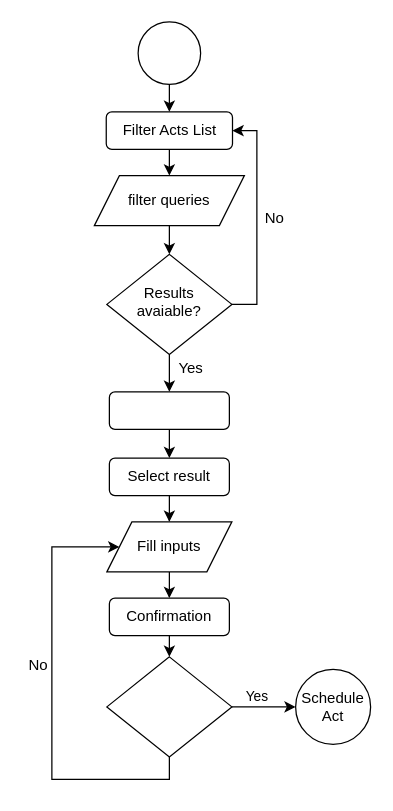
The diagram is 393 pixels wide and 811 high, and some of its shapes have lost their labels. The centre of each missing label's shape, as x and y in pixels:
"Data ok?" belongs at [169,706].
"Home" belongs at [169,52].
"Results list" belongs at [168,410].
